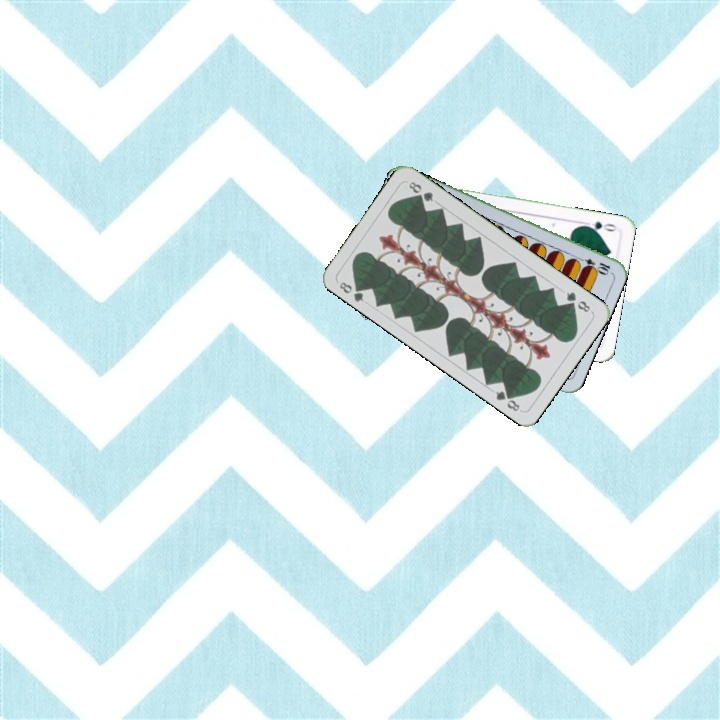E10: (573, 253, 613, 276)
G8: (335, 278, 367, 305), (562, 288, 593, 315)
GO: (579, 217, 619, 235)
